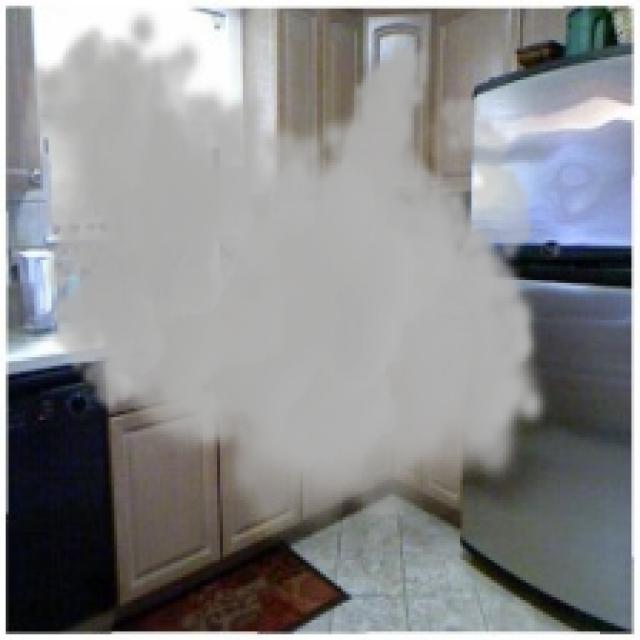smoke: (17, 6, 552, 551)
